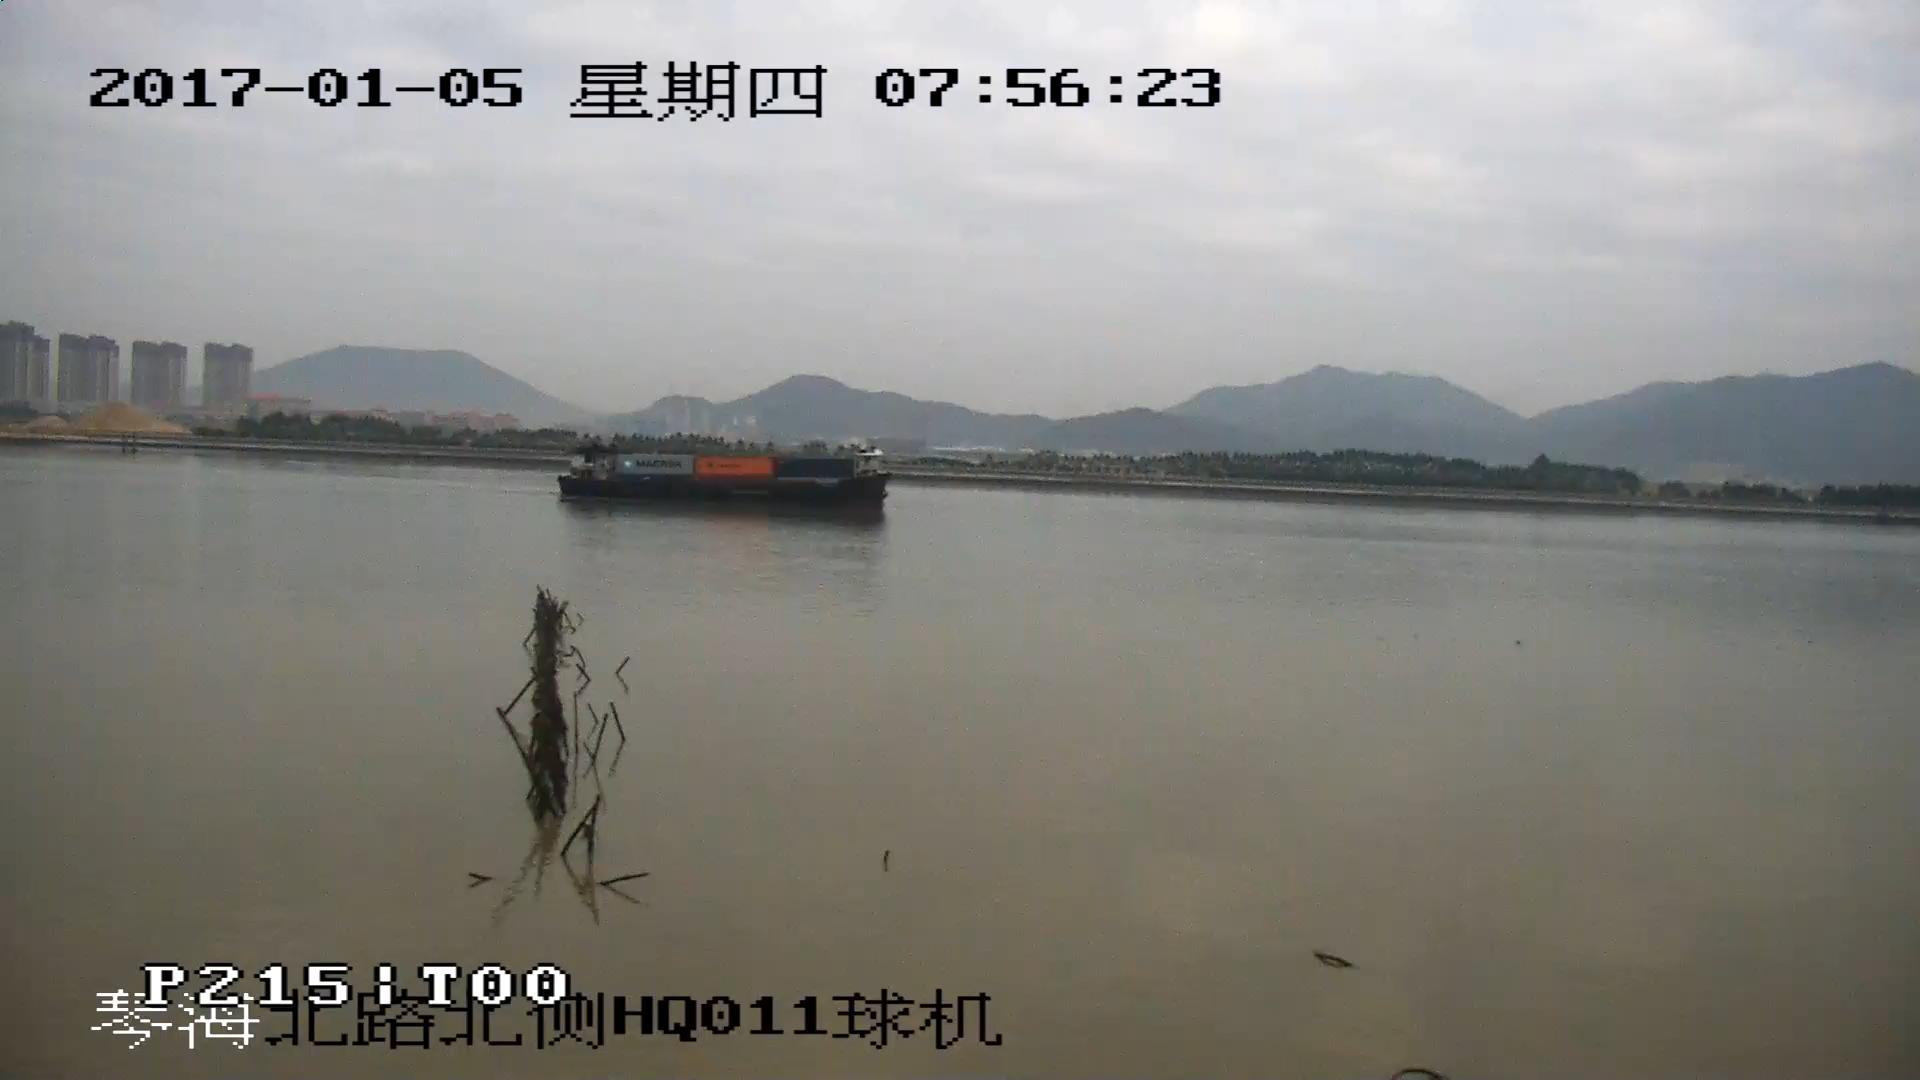container ship: (558, 444, 888, 518)
